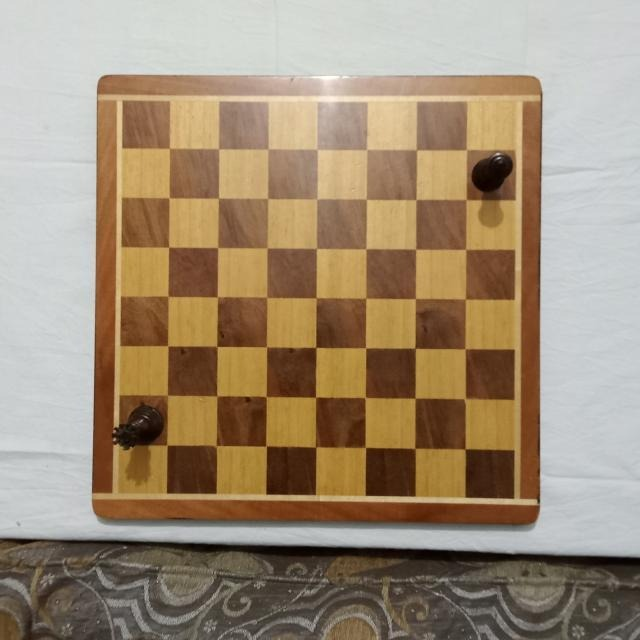black-king: (472, 152, 517, 191)
black-queen: (111, 404, 165, 452)
